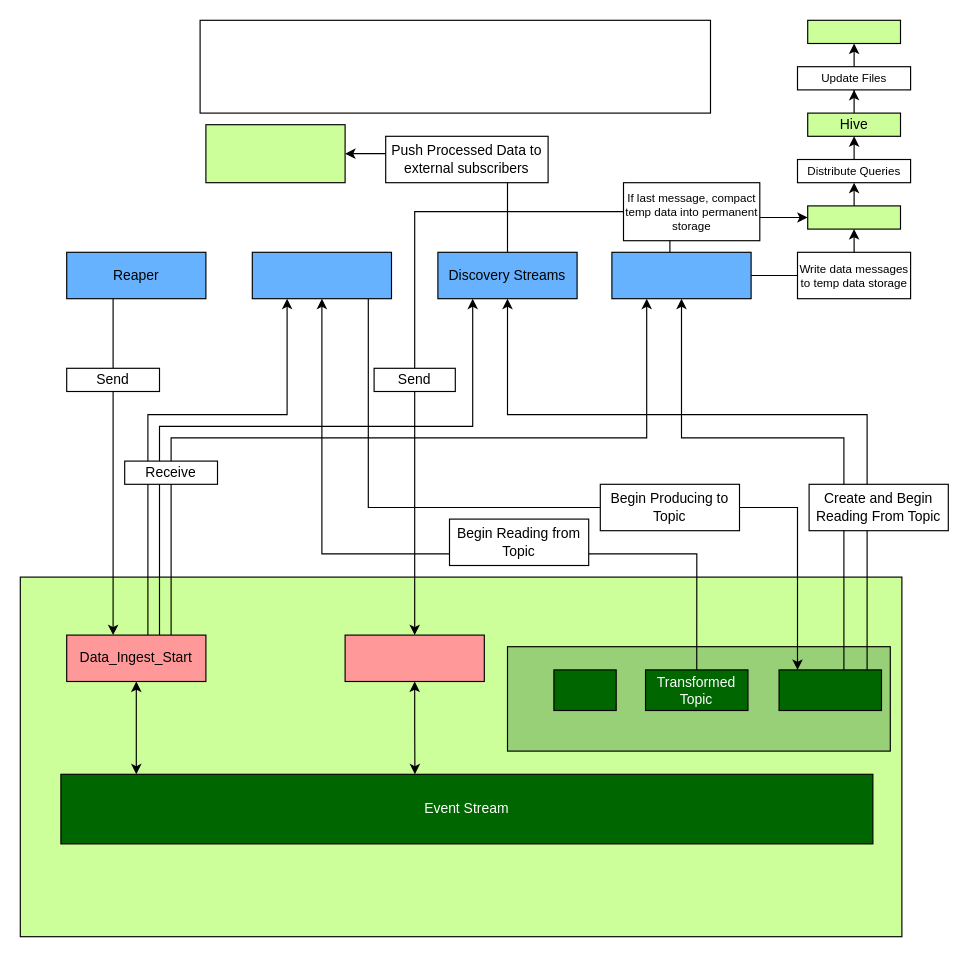
Some shapes in this 969 by 957 pixel diagram are drawn without their labels. The centre of each missing label's shape, as x and y in pixels:
"Data Ingest Start" belongs at (x=454, y=66).
"Data_Ingest_End" belongs at (x=414, y=658).
"Exposed Websocket" belongs at (x=275, y=153).
"Forklift" belongs at (x=681, y=275).
"Raw Topic" belongs at (x=584, y=689).
"S3" belongs at (x=854, y=31).
"Trino" belongs at (x=854, y=217).
"Validated Topic" belongs at (x=829, y=689).
"Valkyrie" belongs at (x=321, y=275).
